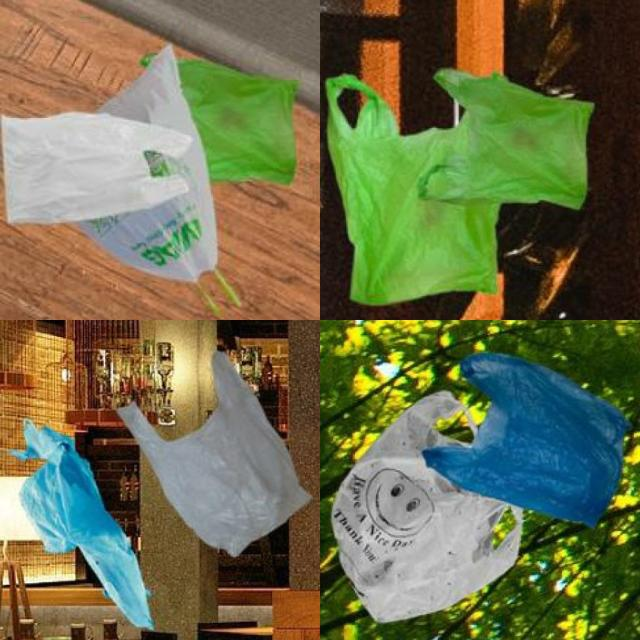Single-layer Plastic: (332, 391, 522, 622), (326, 75, 499, 304), (118, 351, 311, 556), (422, 354, 630, 526), (80, 45, 216, 281), (14, 420, 152, 627), (419, 69, 594, 209), (2, 112, 191, 224), (179, 60, 298, 184)
